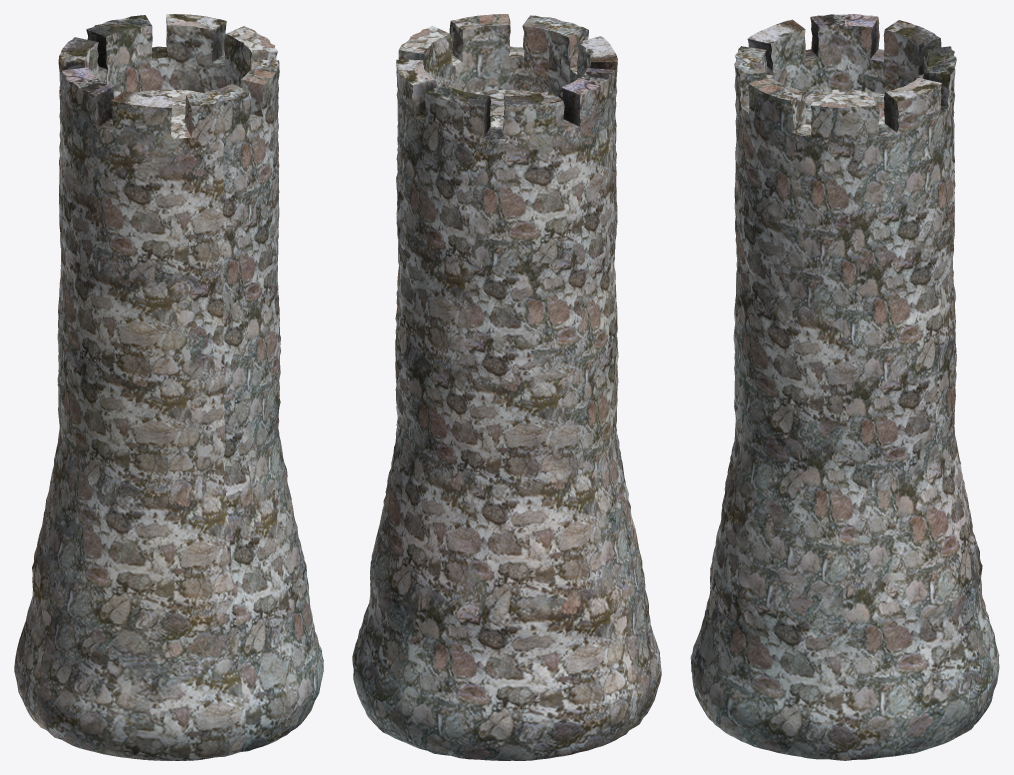
The model's file is torre.gltf.
The picture shows the model from 3 angles, left to right: view 1: azimuth 30°, elevation 25°; view 2: azimuth 150°, elevation 25°; view 3: azimuth 270°, elevation 25°; orthographic projection.
Visible parts, largest first — view 1: Cylinder001; view 2: Cylinder001; view 3: Cylinder001.
Part boxes in pixels (x1,y1,x2,y2): Cylinder001: (14,14,323,760); Cylinder001: (352,14,661,760); Cylinder001: (690,14,999,760).
Size of the model in its own units: 0.8332 by 1.9 by 0.8327.
Materials: 1 (1 with a texture image).
